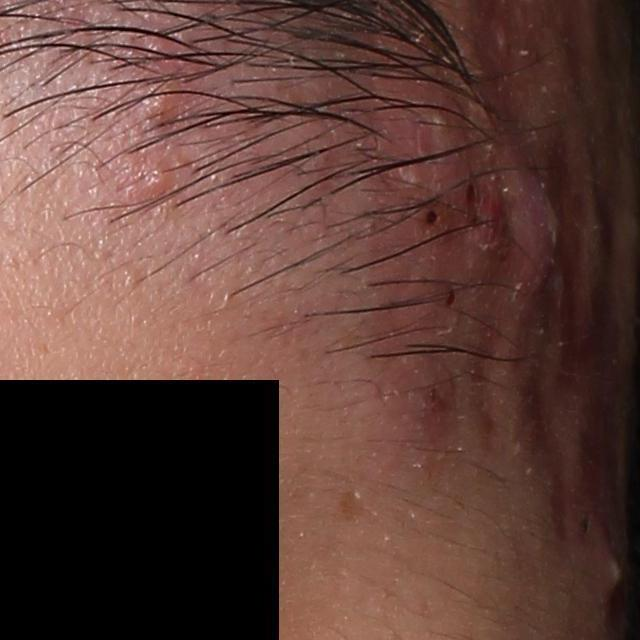atrophic_scar: (461, 330, 506, 473)
